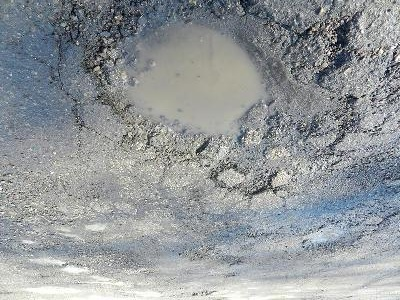pothole: (79, 0, 354, 167), (234, 169, 279, 199)
